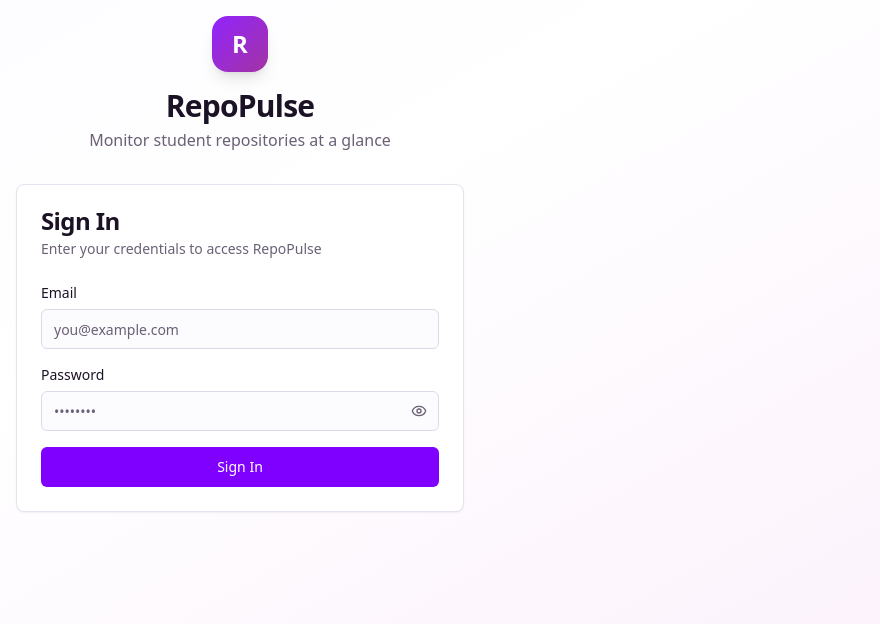
Test: LoginPage › disables Sign In button and shows loading text while submitting
Type "a@b.com" into the field labelled "Email" at (240,329), box top-left (41, 309), bottom-right (439, 349)
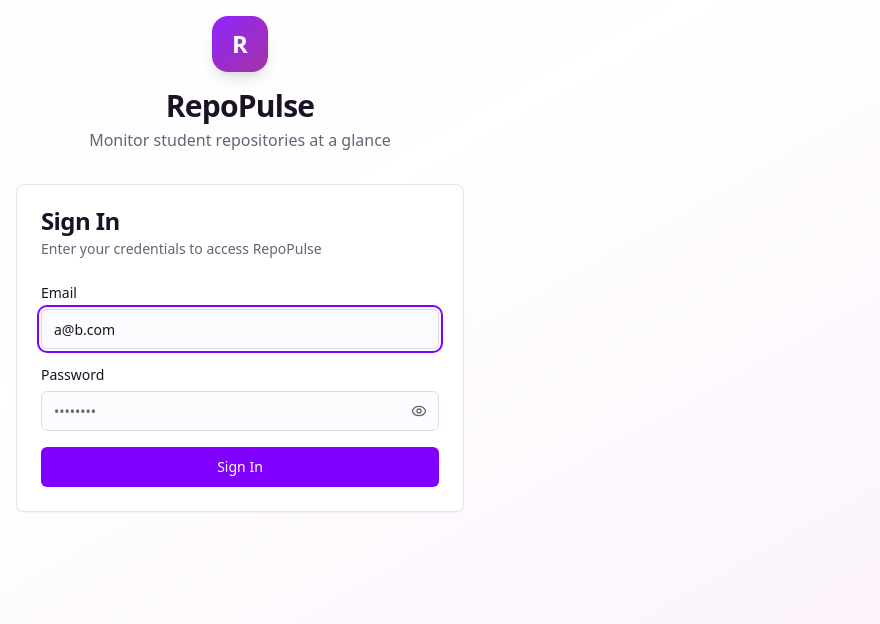
Type "pass" into the password field labelled "Password" at (240,411), box top-left (41, 391), bottom-right (439, 431)
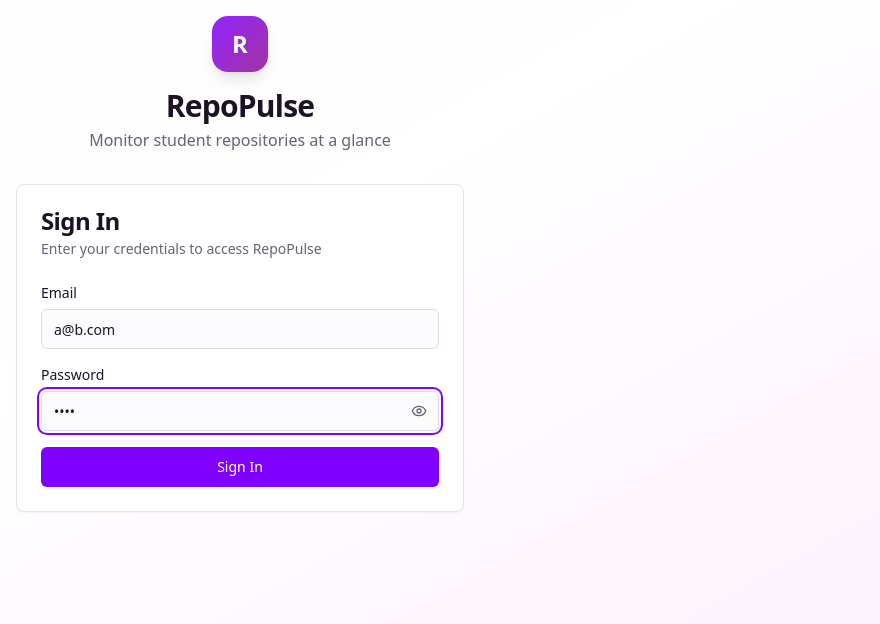
Click the button "Sign In" at (240,467), box top-left (41, 447), bottom-right (439, 487)
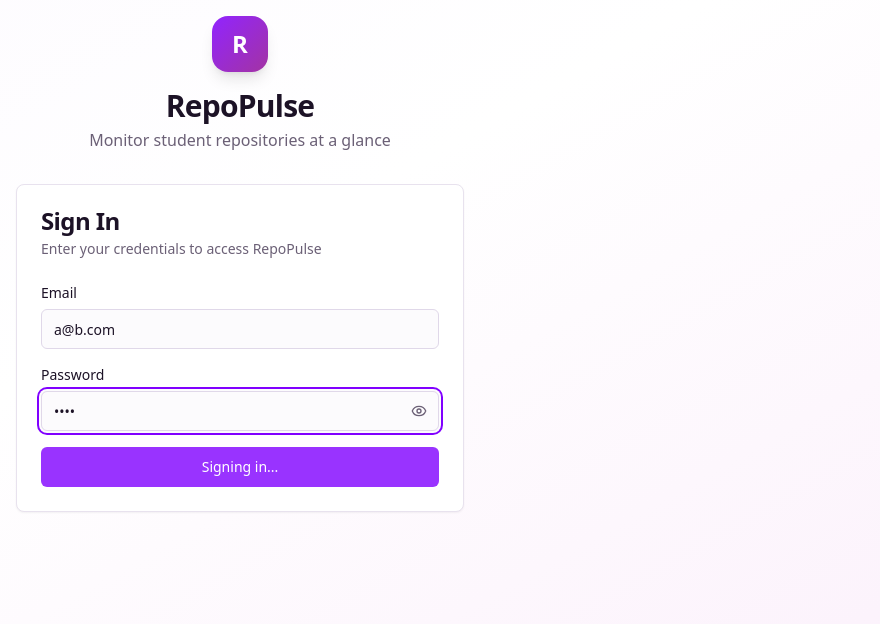
Expected: the button "Signing in..." is disabled, top-left (41, 447), bottom-right (439, 487)
